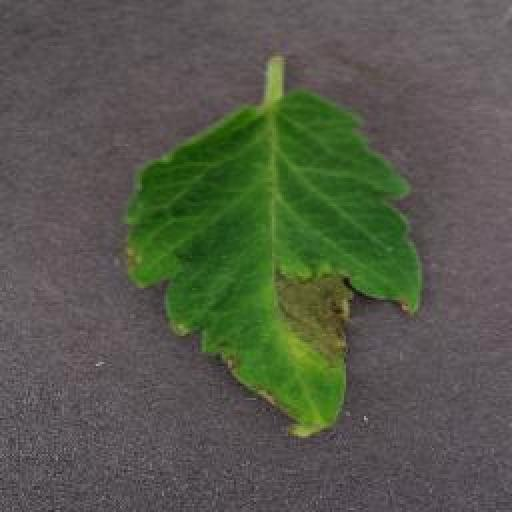disease_tomato: (130, 92, 424, 438)
